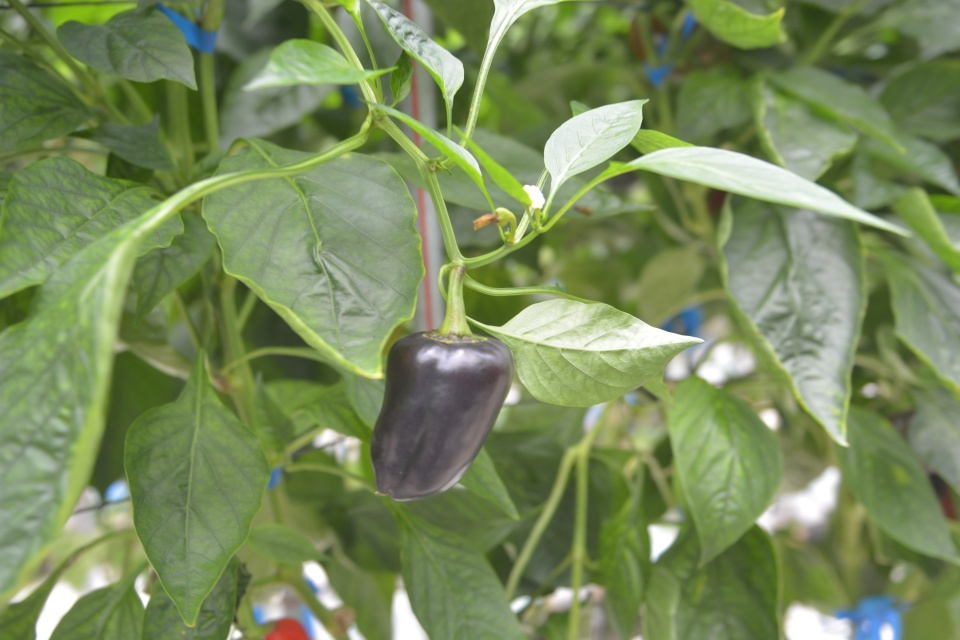fruit: (366, 324, 518, 503)
pedicle: (430, 330, 484, 345)
